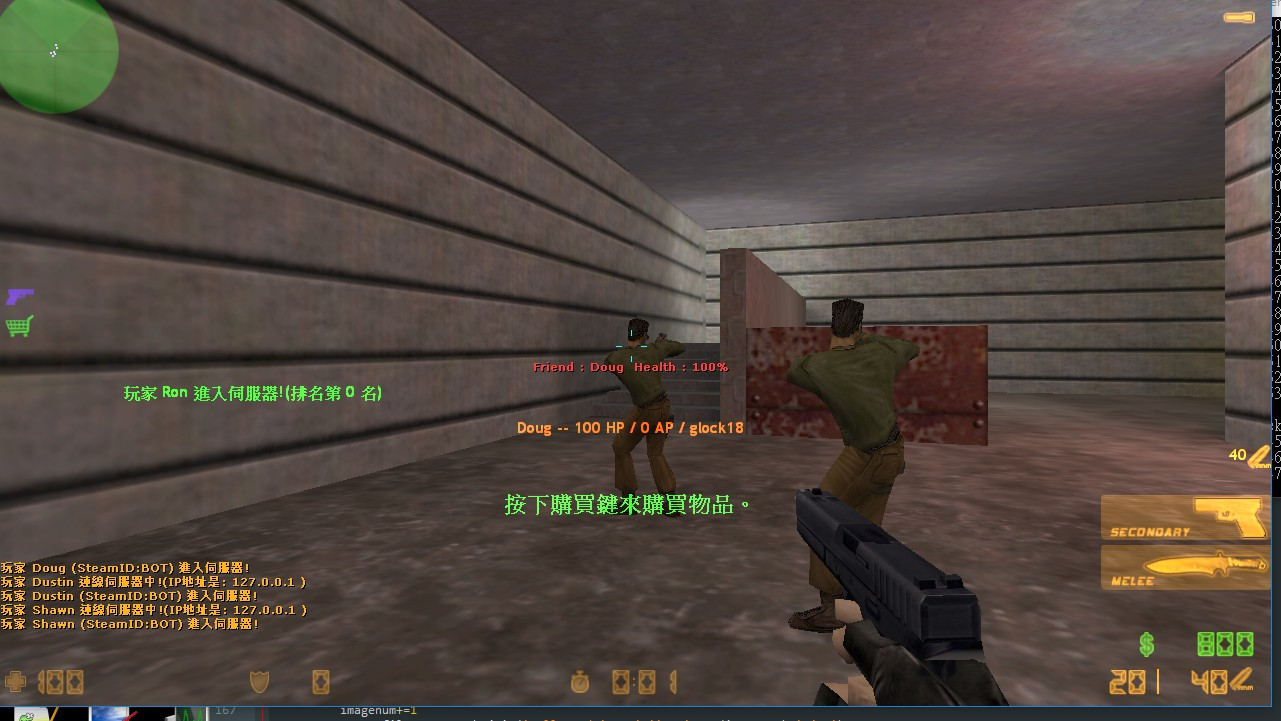person: (790, 286, 912, 629), (605, 313, 695, 513)
